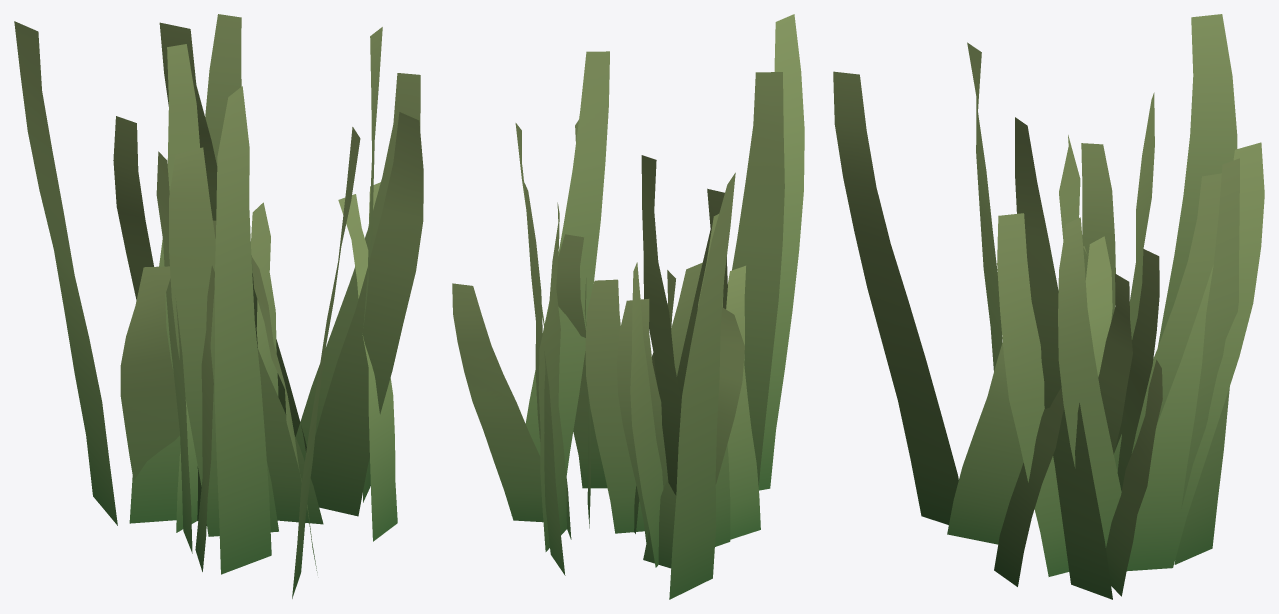
File: grass_leafsLarge.glb
The picture shows the model from 3 angles, left to right: view 1: azimuth 30°, elevation 25°; view 2: azimuth 150°, elevation 25°; view 3: azimuth 270°, elevation 25°; orthographic projection. The views are drawn at different scales.
Visible parts, largest first — view 1: grass_leafsLarge; view 2: grass_leafsLarge; view 3: grass_leafsLarge.
Boxes of the visible parts, bbox=[...] form: grass_leafsLarge: bbox=[14, 14, 423, 598]; grass_leafsLarge: bbox=[452, 14, 804, 599]; grass_leafsLarge: bbox=[833, 14, 1264, 599].
Bounding box in the file's own units: 0.2662 × 0.3697 × 0.3163.
